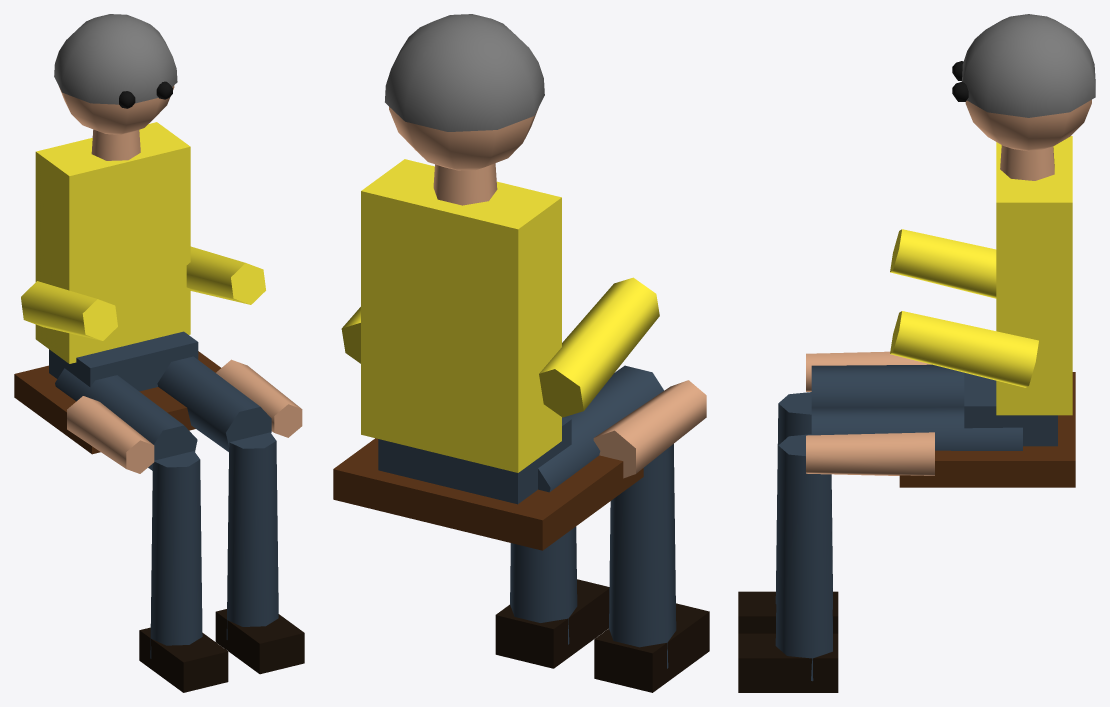
The model's file is crowd-seated-28.glb.
3 renders of one model, left to right at view 1: azimuth 30°, elevation 25°; view 2: azimuth 150°, elevation 25°; view 3: azimuth 270°, elevation 25°, orthographic. The views are drawn at different scales.
Visible parts, largest first — view 1: Torso, Left Shin, Right Shin, Hair Cap, Right Thigh, Left Thigh, Hips, Left Upper Arm, Left Shoe, Right Shoe, Left Lower Arm, Bench Seat (+4 smaller); view 2: Torso, Hair Cap, Bench Seat, Left Shin, Left Upper Arm, Hips, Left Shoe, Right Shoe, Left Lower Arm, Right Shin, Left Thigh, Head (+2 smaller); view 3: Torso, Right Shin, Hair Cap, Right Upper Arm, Bench Seat, Left Thigh, Right Thigh, Right Lower Arm, Left Upper Arm, Right Shoe, Head, Hips (+4 smaller).
Boxes of the visible parts, x1=… form: Torso: x1=35, y1=122, x2=190, y2=363; Left Shin: x1=150, y1=451, x2=202, y2=658; Right Shin: x1=226, y1=432, x2=278, y2=639; Hair Cap: x1=54, y1=14, x2=177, y2=104; Right Thigh: x1=157, y1=356, x2=271, y2=451; Left Thigh: x1=55, y1=368, x2=197, y2=470; Hips: x1=49, y1=331, x2=198, y2=391; Left Upper Arm: x1=21, y1=281, x2=117, y2=340; Left Shoe: x1=139, y1=627, x2=228, y2=692; Right Shoe: x1=215, y1=609, x2=304, y2=674; Left Lower Arm: x1=67, y1=396, x2=154, y2=473; Bench Seat: x1=14, y1=351, x2=220, y2=454; Torso: x1=361, y1=159, x2=561, y2=472; Hair Cap: x1=385, y1=14, x2=544, y2=131; Bench Seat: x1=333, y1=438, x2=643, y2=550; Left Shin: x1=609, y1=444, x2=676, y2=668; Left Upper Arm: x1=539, y1=277, x2=659, y2=417; Hips: x1=378, y1=417, x2=571, y2=504; Left Shoe: x1=594, y1=603, x2=709, y2=692; Right Shoe: x1=495, y1=579, x2=609, y2=668; Left Lower Arm: x1=593, y1=380, x2=706, y2=478; Right Shin: x1=510, y1=526, x2=577, y2=644; Left Thigh: x1=538, y1=365, x2=663, y2=492; Head: x1=389, y1=107, x2=538, y2=170; Torso: x1=996, y1=136, x2=1072, y2=415; Right Shin: x1=775, y1=434, x2=832, y2=681; Hair Cap: x1=962, y1=14, x2=1095, y2=117; Right Upper Arm: x1=890, y1=311, x2=1038, y2=387; Bench Seat: x1=899, y1=372, x2=1075, y2=487; Left Thigh: x1=811, y1=364, x2=964, y2=407; Right Thigh: x1=811, y1=406, x2=1022, y2=450; Right Lower Arm: x1=806, y1=432, x2=934, y2=475; Left Upper Arm: x1=890, y1=229, x2=996, y2=298; Right Shoe: x1=738, y1=633, x2=838, y2=692; Head: x1=965, y1=99, x2=1091, y2=151; Hips: x1=964, y1=372, x2=1057, y2=446.
Size of the model in its own units: 0.4097 by 1.2 by 0.6089.
